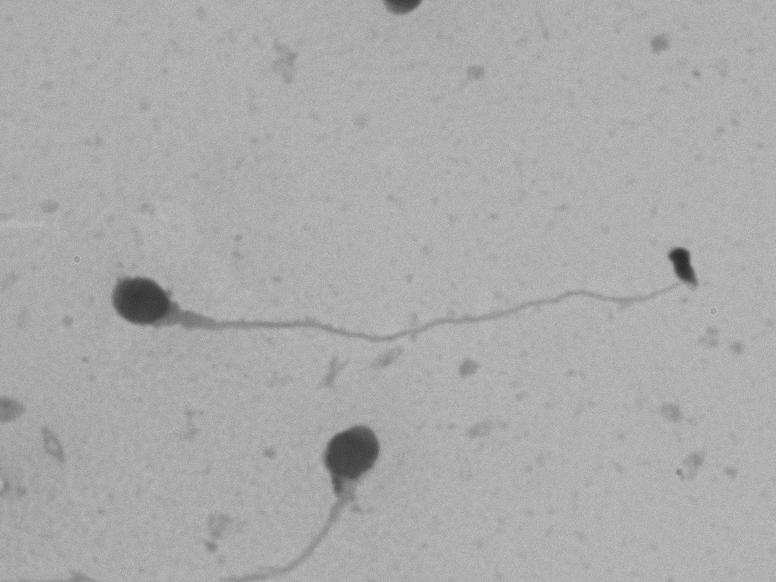Abnormal: (97, 206, 676, 372), (258, 409, 443, 573)
